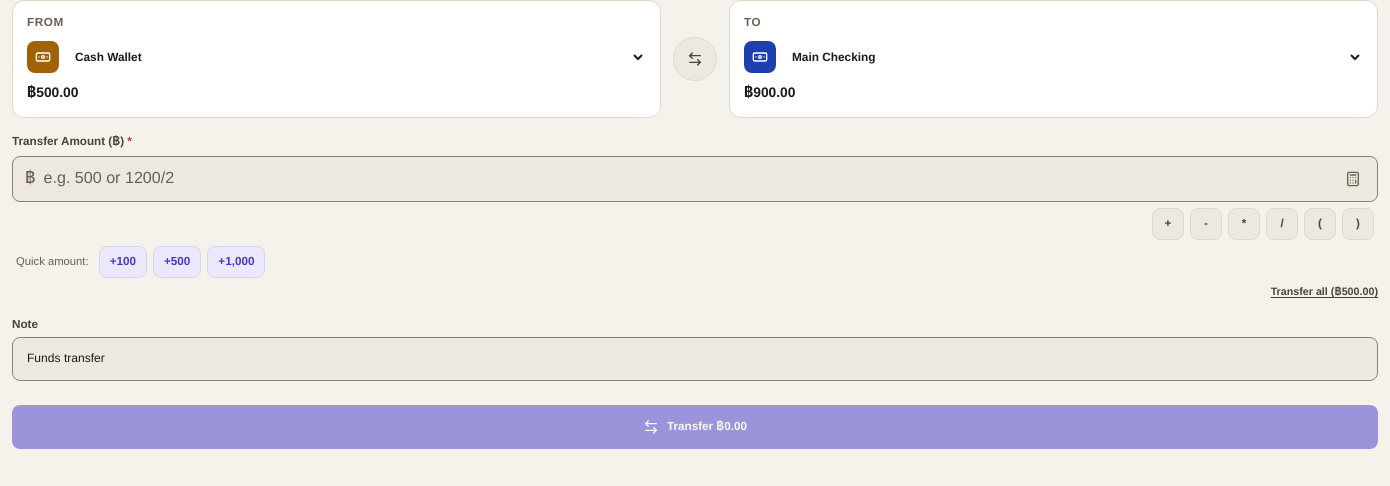
Test: WalletTransferForm: Transfer all records the amount it seeds › fills the field with the balance and arms the transfer and its preview
Expected: the button with id "xfer-submit" is disabled, [12,404,1378,448]
What coordinates should you click on to do the following:
click the button with id "xfer-all"
I would click on:
 (1324, 292)
Its box is [1271,284,1378,300].
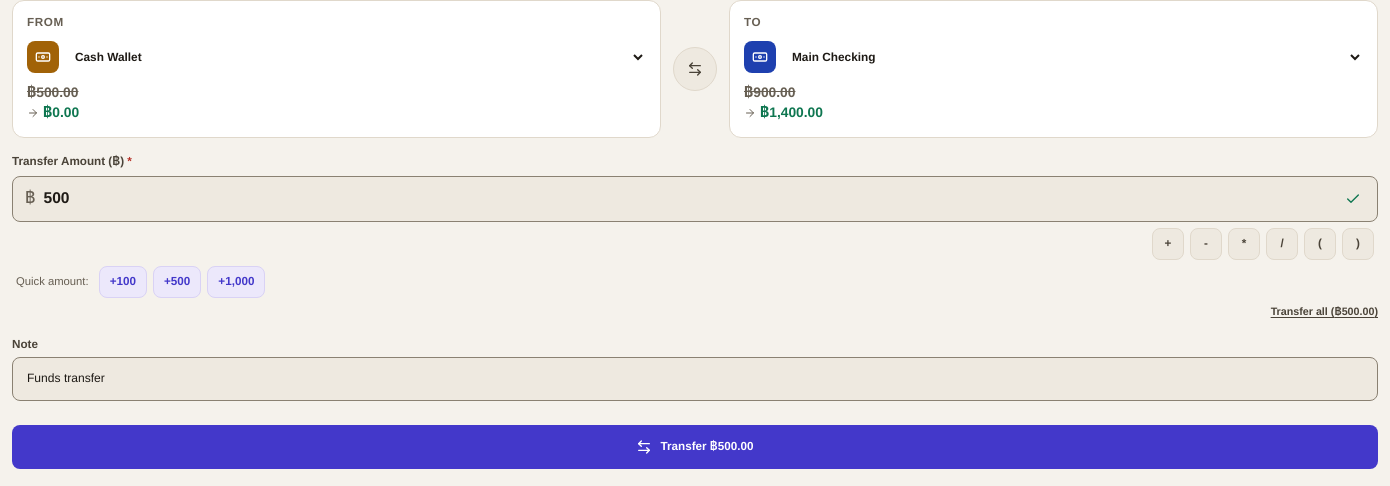
Expected: the field with id "xfer-amt" holds "500", [44,177,1333,221]
Expected: the button with id "xfer-submit" is enabled, [12,424,1378,468]
Expected: the text "฿1,400.00" is shown, [760,103,823,123]
